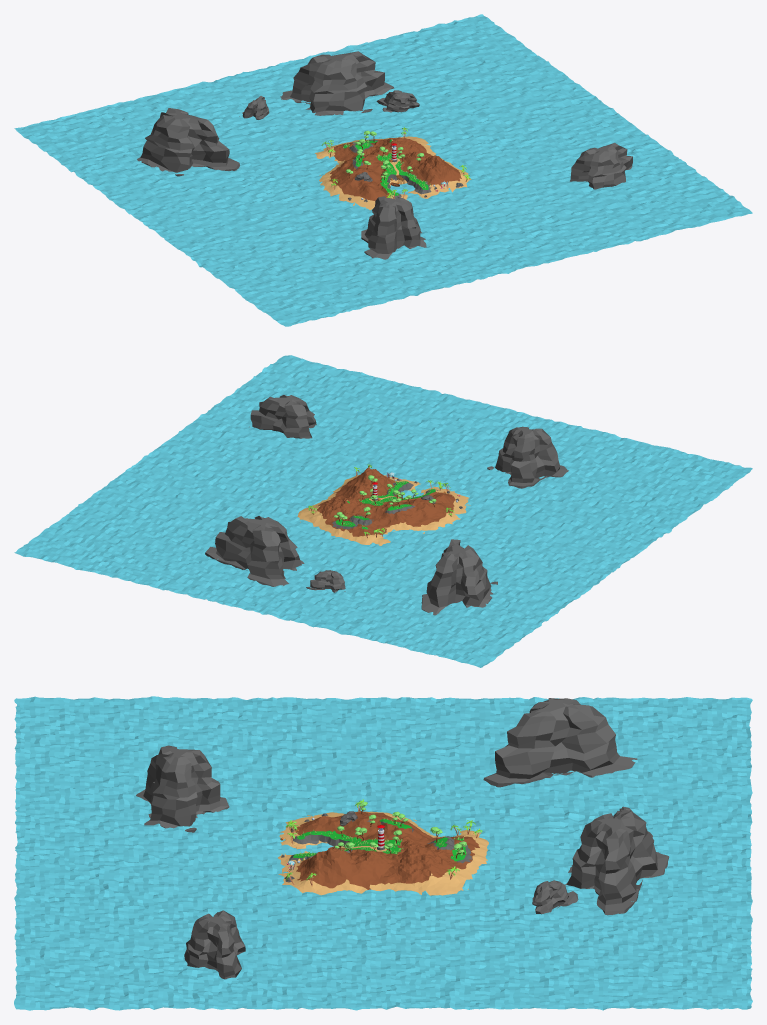
Rendered from Island.fbx.
The picture shows the model from 3 angles, top to bottom: view 1: azimuth 30°, elevation 25°; view 2: azimuth 150°, elevation 25°; view 3: azimuth 270°, elevation 25°; orthographic projection. The views are drawn at different scales.
Parts seen in each view (by area): view 1: Grid; view 2: Grid; view 3: Grid.
Part boxes in pixels (<box>): Grid: <box>14,14,752,326</box>; Grid: <box>14,355,752,667</box>; Grid: <box>14,696,752,1010</box>.
Size of the model in its own units: 1547 by 175 by 1548.
